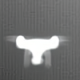plane: (3, 33, 71, 68)
